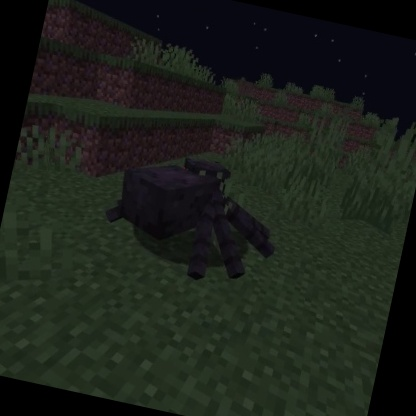spider: (92, 136, 293, 299)
